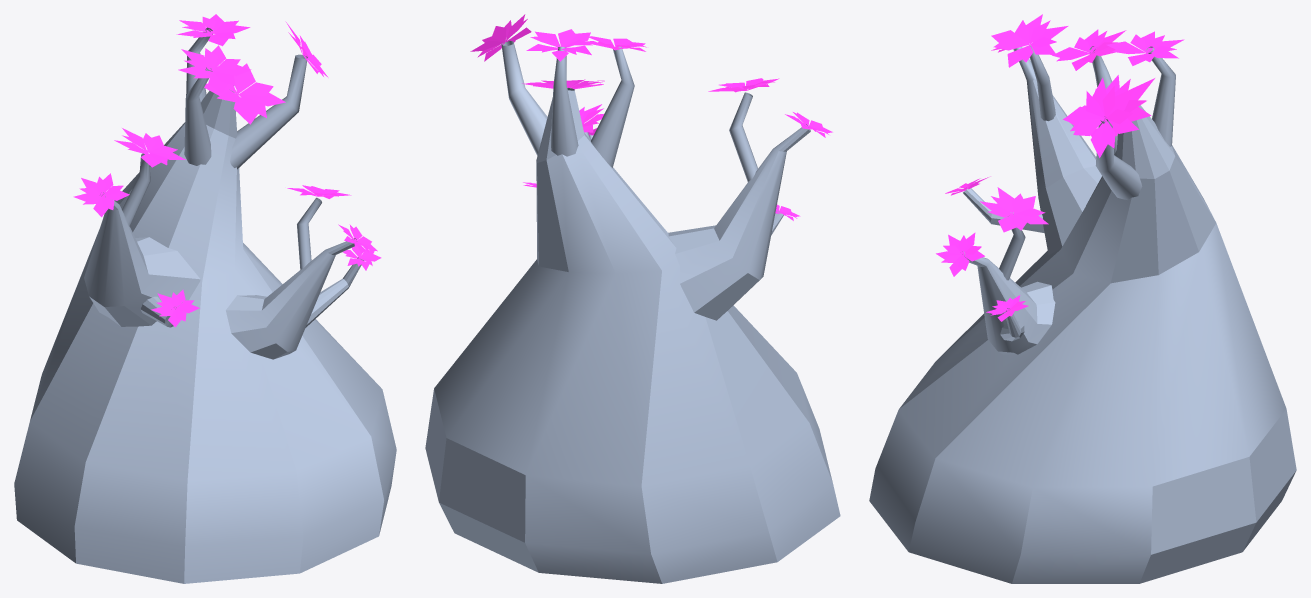
Rendered from desert_flower_mesh_v01.fbx.
3 renders of one model, left to right at view 1: azimuth 30°, elevation 25°; view 2: azimuth 150°, elevation 25°; view 3: azimuth 270°, elevation 25°, orthographic. The views are drawn at different scales.
Visible parts, largest first — view 1: desert_flower_mesh_v01; view 2: desert_flower_mesh_v01; view 3: desert_flower_mesh_v01.
Boxes of the visible parts, x1,y1,x2,y2 form: desert_flower_mesh_v01: [14, 14, 396, 583]; desert_flower_mesh_v01: [425, 14, 840, 583]; desert_flower_mesh_v01: [869, 14, 1296, 583].
Size of the model in its own units: 47.71 by 61.94 by 50.43.
